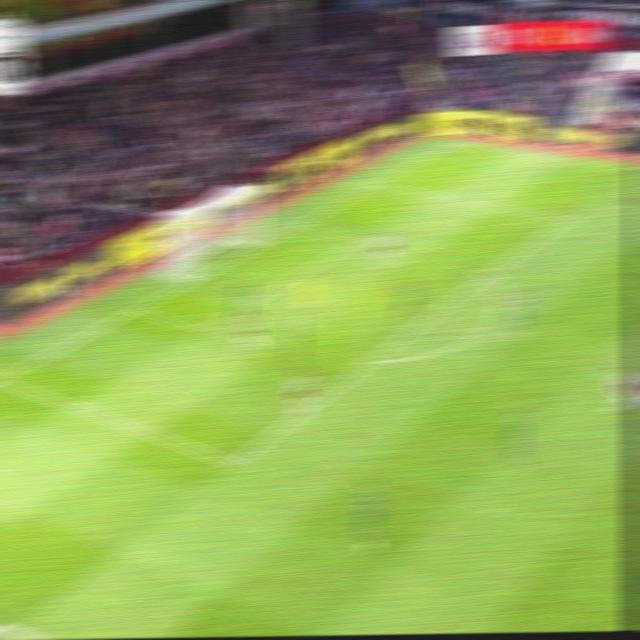bigarea_bottom_inner: (220, 448, 250, 477)
bigarea_bottom_outter: (0, 367, 12, 390)
bigarea_top_inner: (552, 207, 580, 231)
bigarea_top_outter: (364, 175, 389, 191)
bottom_arc_area_intersection: (357, 349, 386, 373)
corner: (446, 133, 473, 148)
smallarea_bottom_inner: (189, 316, 217, 340)
smallarea_bottom_outter: (123, 298, 152, 318)
smallarea_top_inner: (348, 226, 374, 248)
smallarea_top_outter: (288, 213, 315, 234)
top_arc_area_intersection: (474, 265, 500, 285)
